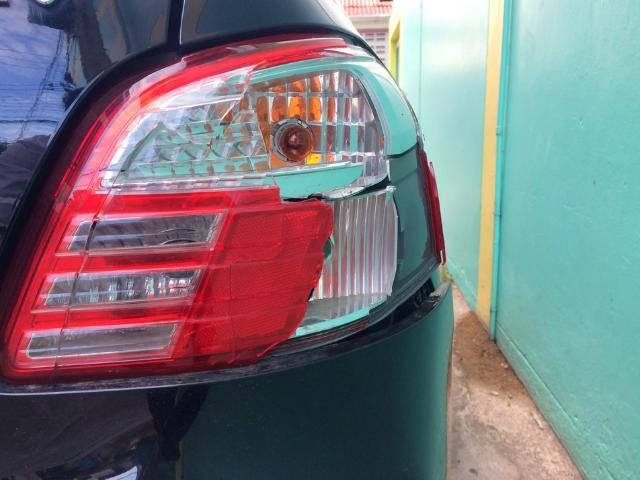Light: (19, 47, 469, 354)
